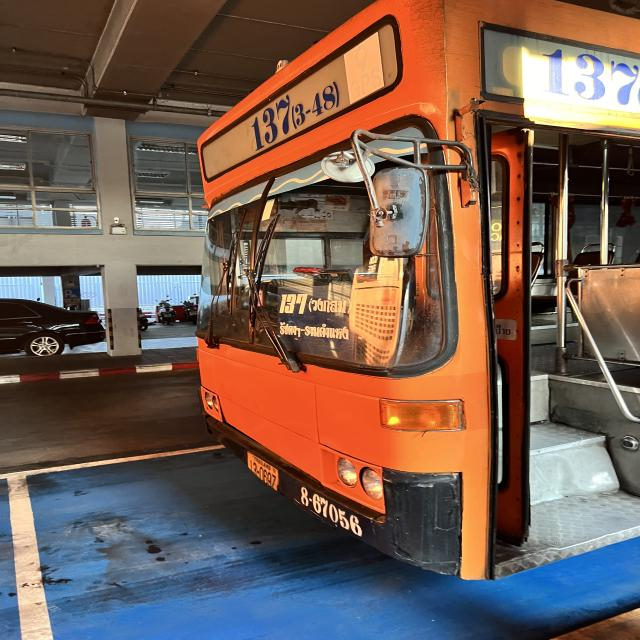BMTA-bus: (194, 0, 640, 584)
Bus-Line-Number: (247, 57, 346, 156), (536, 43, 640, 115)
Destination-Sign-Normal: (276, 284, 356, 362)
